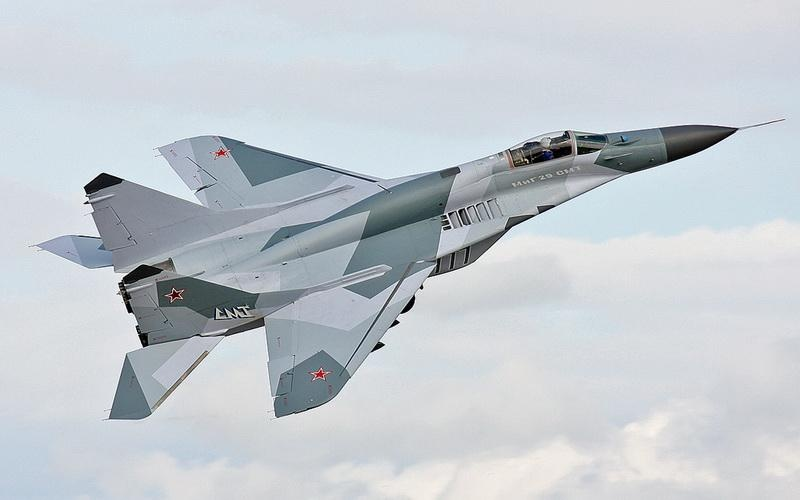aircraft: (54, 122, 779, 422)
